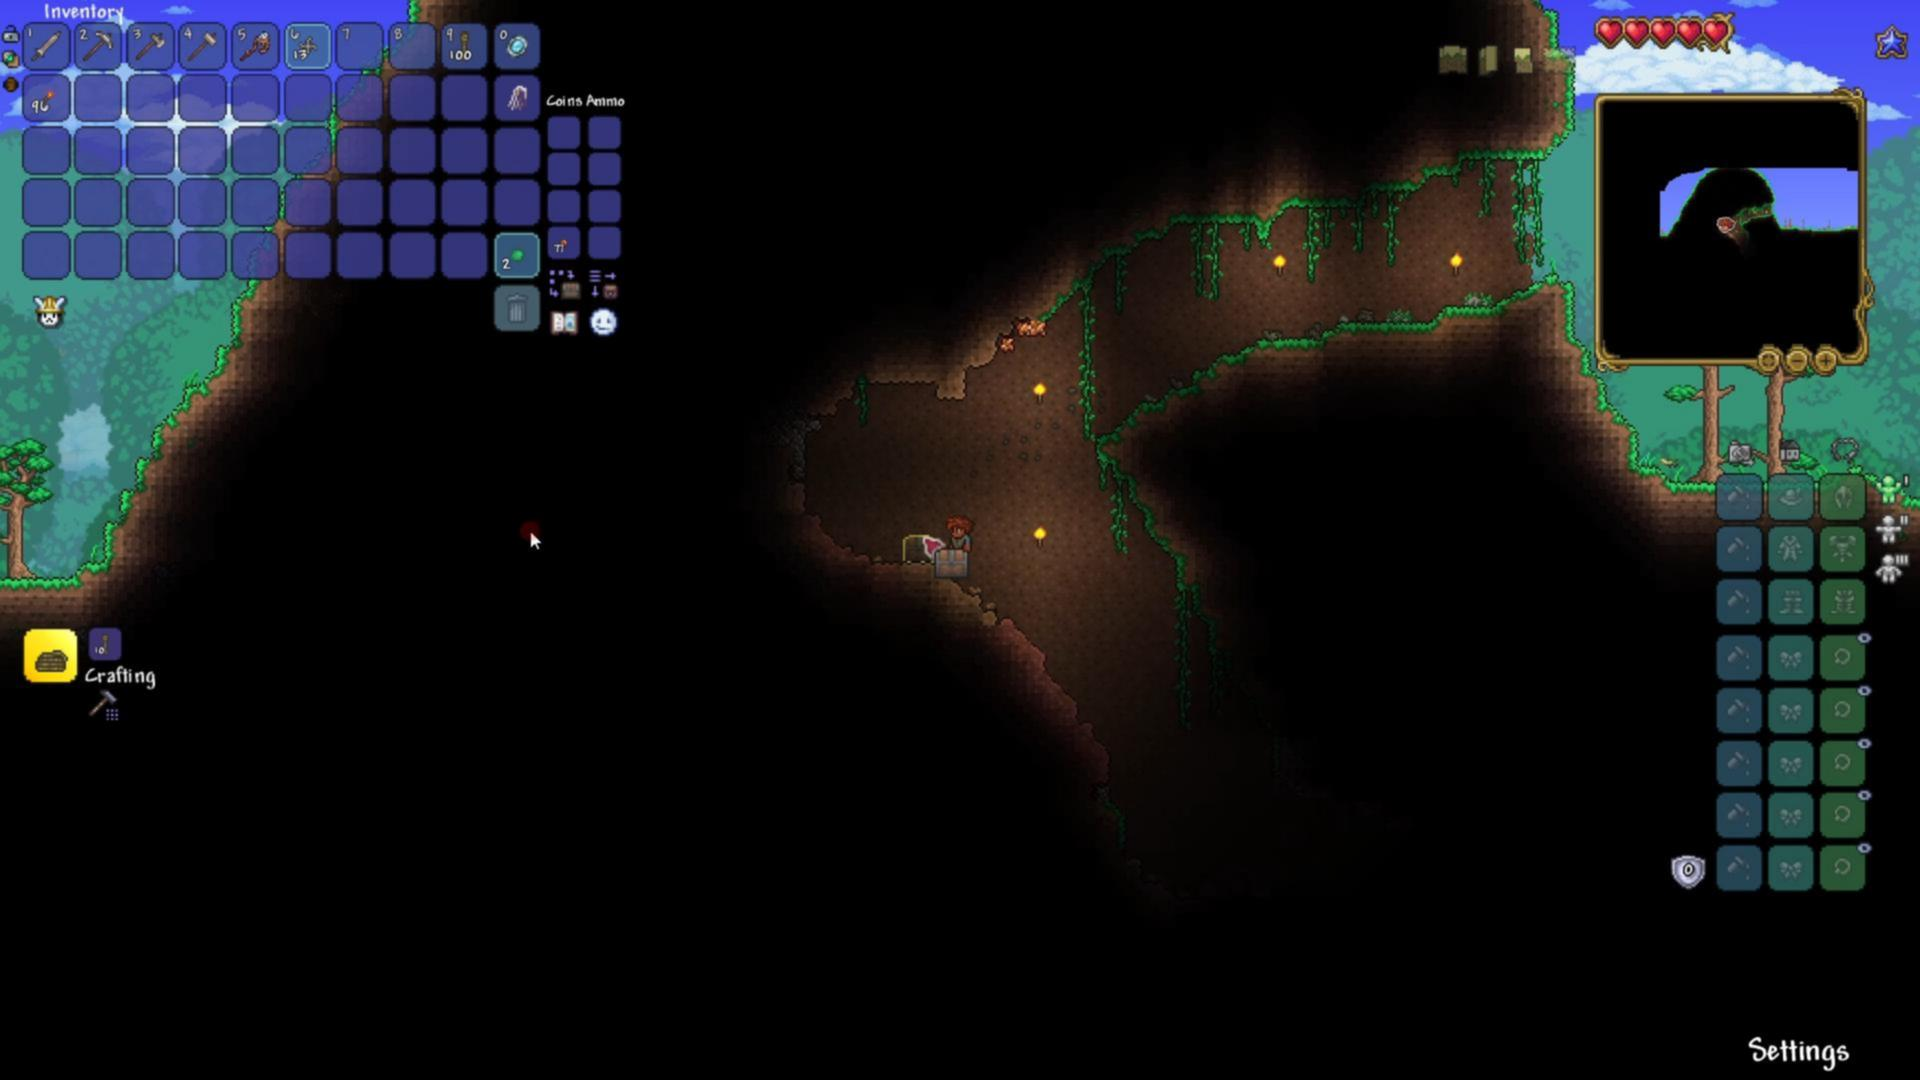dirt: (1097, 270, 1571, 436), (102, 286, 266, 554), (1092, 443, 1230, 638), (1565, 357, 1673, 485), (1407, 124, 1590, 199), (1130, 193, 1418, 240), (1534, 3, 1586, 125), (0, 567, 120, 608), (1643, 479, 1718, 506)
